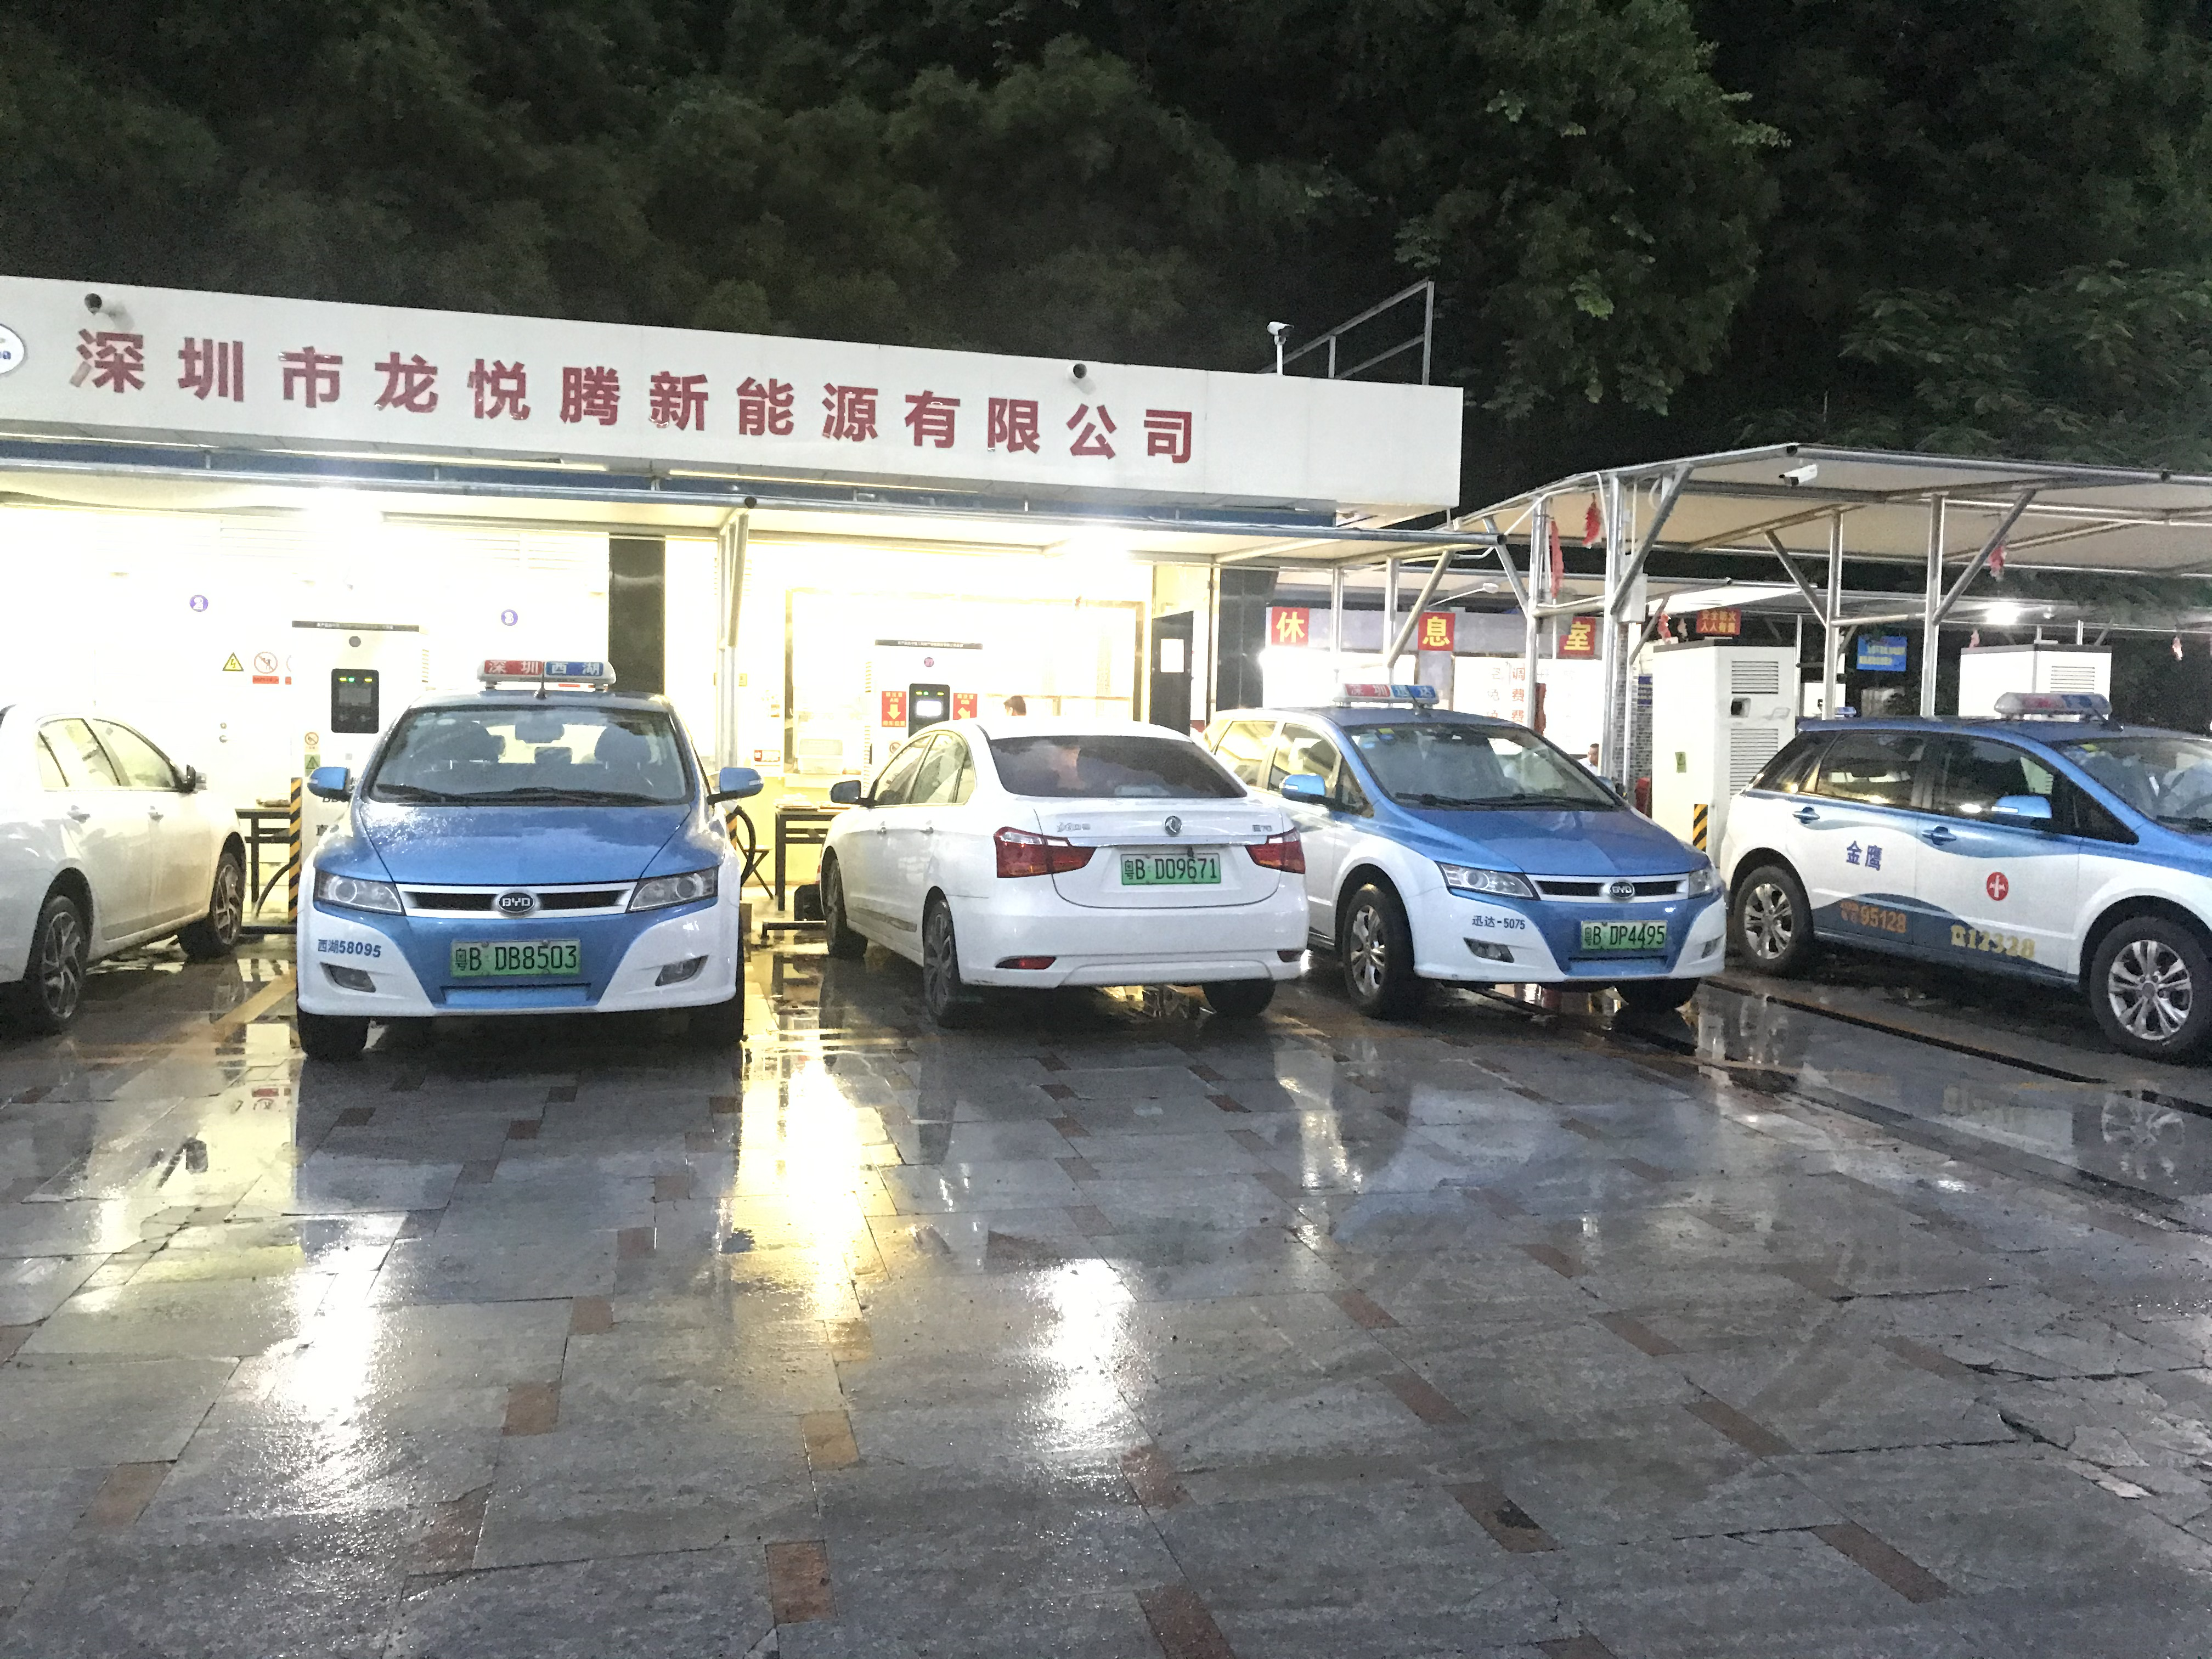greenPlate: (446, 938, 583, 981), (1118, 852, 1223, 887), (1580, 918, 1676, 953)
